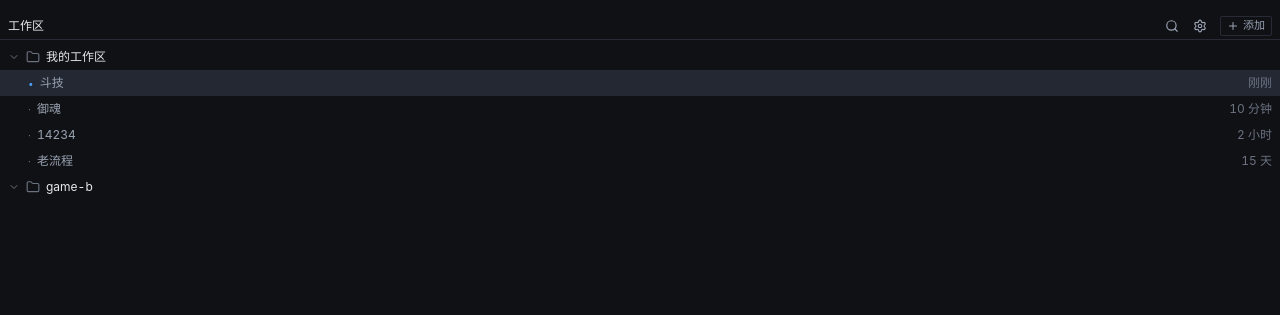
it: 工作区区域（右栏 Tab 的本体内容） › Esc 收起行内表单（区域不消失）；区域挂载即拉一次工作区列表（不做本地缓存）
Expected: the button "我的工作区" is shown, [46, 48, 1196, 66]
Click the button with test id "workspace-add" at (1246, 26), box [1220, 16, 1272, 36]
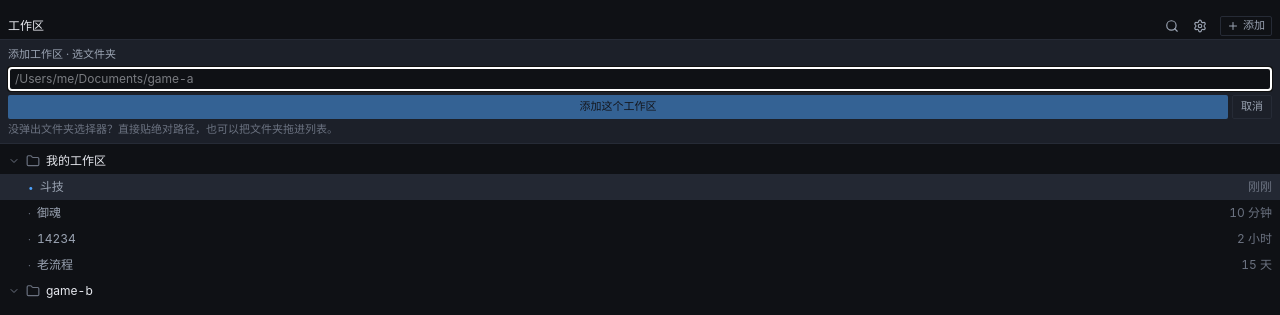
Result: the field with placeholder "/Users/me/Documents/game-a" is shown at [8, 66, 1272, 90]
Press Escape
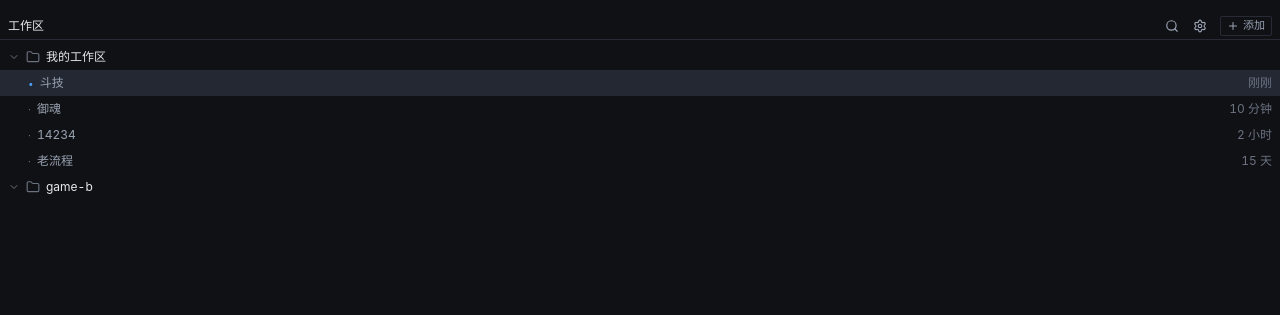
Expected: the element with test id "workspace-region" is shown, [0, 12, 1279, 196]
Result: the field with placeholder "/Users/me/Documents/game-a" is gone
